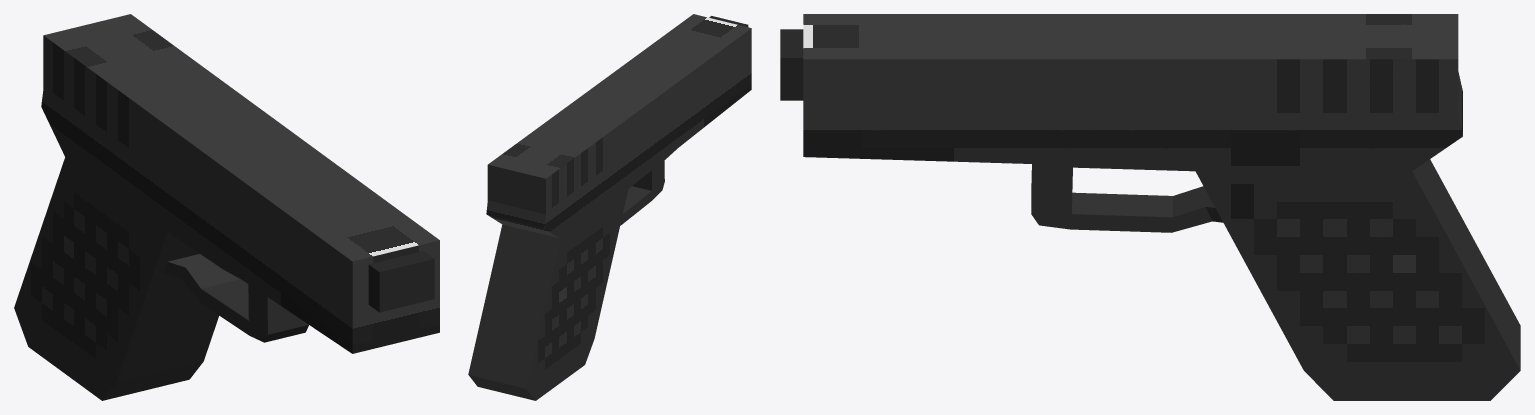
The model's file is glock.gltf.
3 renders of one model, left to right at view 1: azimuth 30°, elevation 25°; view 2: azimuth 150°, elevation 25°; view 3: azimuth 270°, elevation 25°, orthographic. The views are drawn at different scales.
Parts seen in each view (by area): view 1: mesh; view 2: mesh; view 3: mesh.
Boxes of the visible parts, x1,y1,x2,y2 form: mesh: [14, 14, 439, 400]; mesh: [468, 14, 751, 400]; mesh: [780, 14, 1520, 400].
Size of the model in its own units: 0.0594 by 0.2094 by 0.4109.
Materials: 1 (1 with a texture image).
